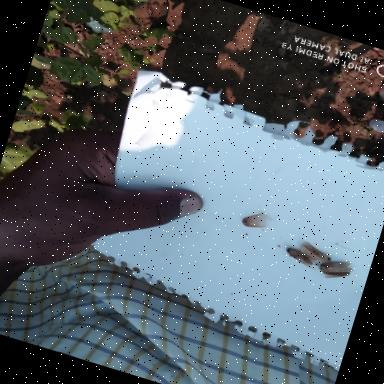abw: (281, 244, 321, 272), (318, 252, 354, 282), (238, 206, 274, 235), (296, 238, 334, 264), (319, 265, 351, 286)
